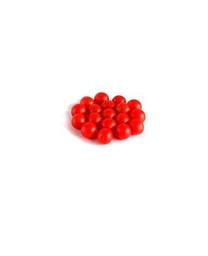cherry: (81, 122, 98, 139), (112, 112, 130, 127), (96, 127, 111, 144), (72, 113, 87, 130), (99, 116, 116, 131), (111, 125, 130, 138), (94, 91, 110, 106), (127, 120, 144, 134), (85, 111, 101, 125), (100, 106, 117, 119), (128, 109, 145, 122), (115, 102, 130, 112), (88, 103, 101, 114), (128, 100, 142, 110), (80, 97, 93, 106), (102, 99, 115, 108), (113, 96, 126, 105), (72, 105, 85, 113)
